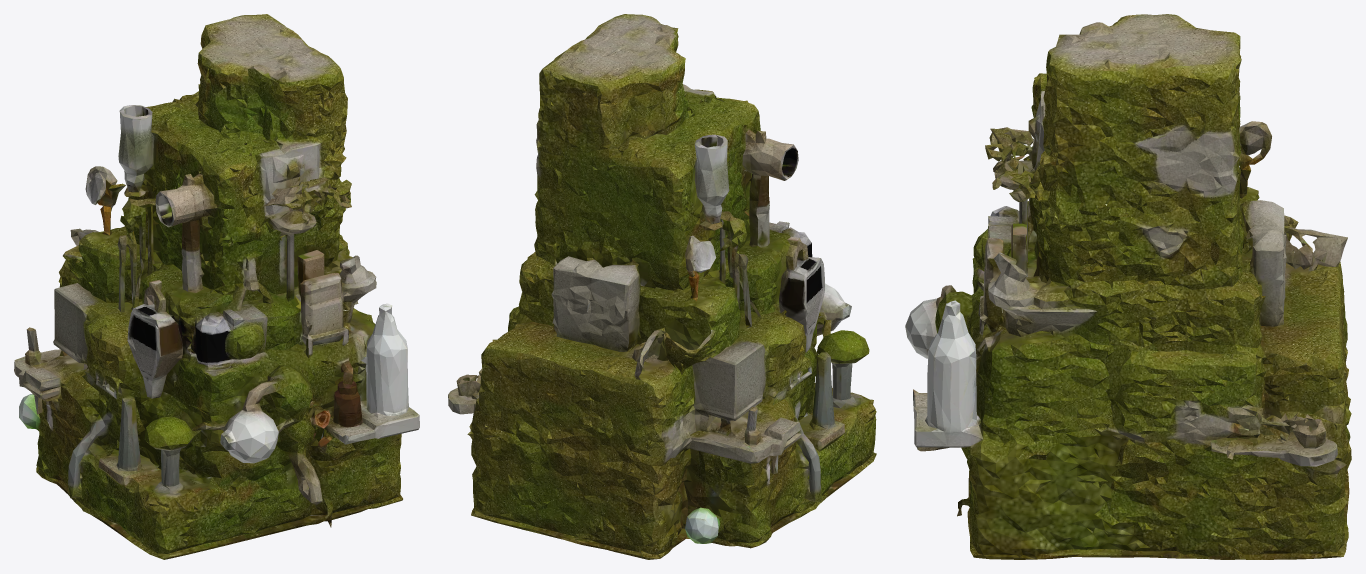
Rendered from tail (246).glb.
3 views of the same model, side by side, from view 1: azimuth 30°, elevation 25°; view 2: azimuth 150°, elevation 25°; view 3: azimuth 270°, elevation 25° (orthographic). The views are drawn at different scales.
Parts seen in each view (by area): view 1: Hy21_Mesh.obj; view 2: Hy21_Mesh.obj; view 3: Hy21_Mesh.obj.
Boxes of the visible parts, x1,y1,x2,y2 form: Hy21_Mesh.obj: (14, 14, 419, 559); Hy21_Mesh.obj: (448, 14, 876, 559); Hy21_Mesh.obj: (905, 14, 1351, 559).
Size of the model in its own units: 1.46 by 1.95 by 1.63.
1 material, 1 textured.
